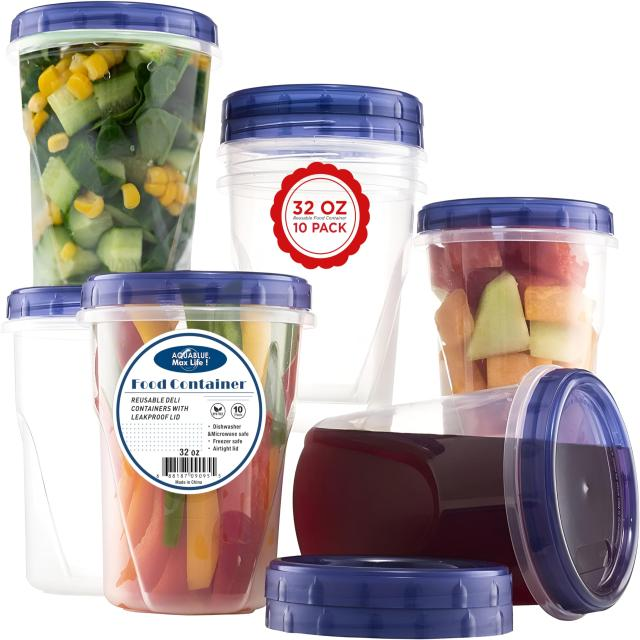plastic_box: (5, 6, 637, 628), (5, 237, 335, 619), (278, 334, 640, 633), (209, 30, 447, 305), (11, 8, 247, 277), (419, 184, 640, 405)
